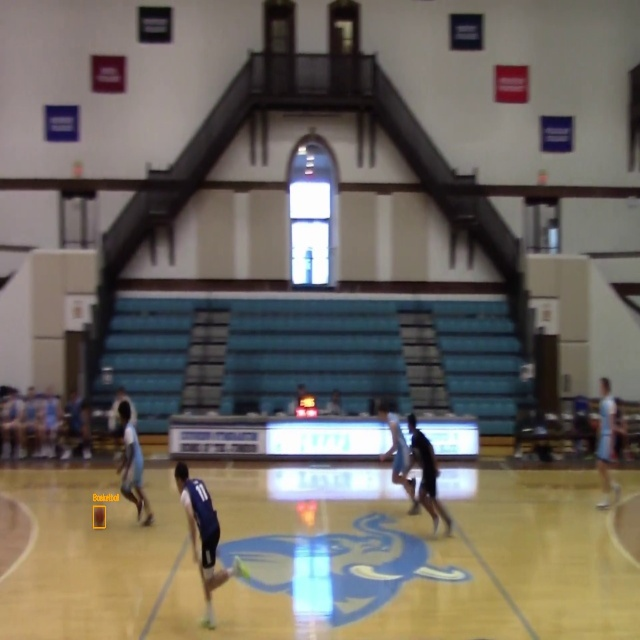Basketball: (93, 506, 105, 528)
